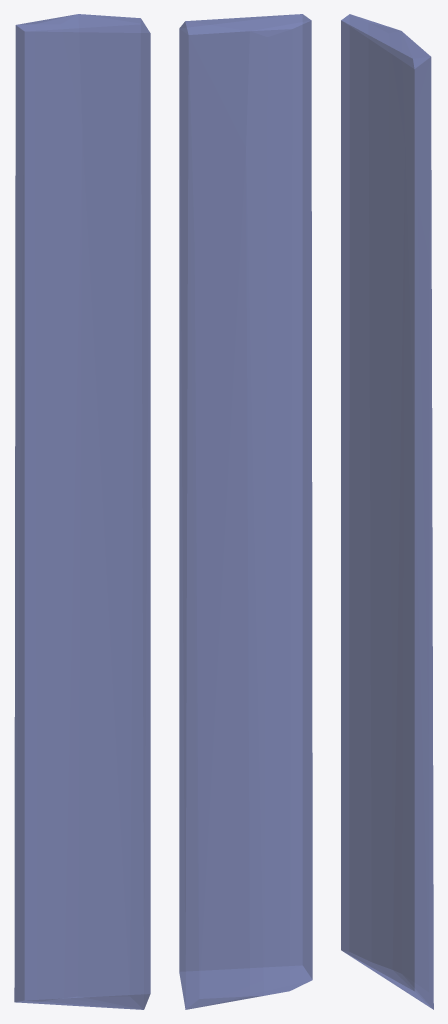
3 views of the same model, side by side, from view 1: azimuth 30°, elevation 25°; view 2: azimuth 210°, elevation 25°; view 3: azimuth 330°, elevation 25° (orthographic). The views are drawn at different scales.
Visible parts, largest first — view 1: Shape_IndexedFaceSet.025_Shape_IndexedFaceSet.789; view 2: Shape_IndexedFaceSet.025_Shape_IndexedFaceSet.789; view 3: Shape_IndexedFaceSet.025_Shape_IndexedFaceSet.789.
Part boxes in pixels (x1=…): Shape_IndexedFaceSet.025_Shape_IndexedFaceSet.789: x1=14, y1=14, x2=150, y2=1009; Shape_IndexedFaceSet.025_Shape_IndexedFaceSet.789: x1=179, y1=14, x2=312, y2=1009; Shape_IndexedFaceSet.025_Shape_IndexedFaceSet.789: x1=341, y1=14, x2=433, y2=1009.
Size of the model in its own units: 0.1381 by 1.21 by 0.075.
